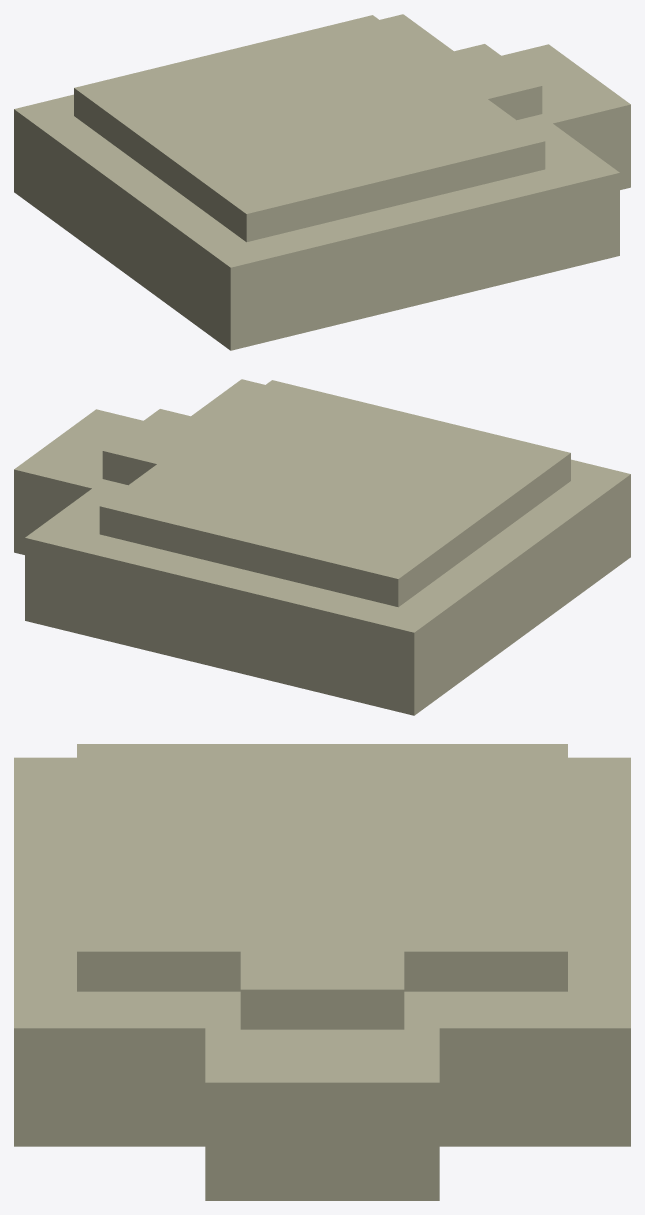
Rendered from Seashell.fbx.
The picture shows the model from 3 angles, top to bottom: view 1: azimuth 30°, elevation 25°; view 2: azimuth 150°, elevation 25°; view 3: azimuth 270°, elevation 25°; orthographic projection. The views are drawn at different scales.
Parts seen in each view (by area): view 1: Seashell1; view 2: Seashell1; view 3: Seashell1.
Part boxes in pixels (x1,y1,x2,y2): Seashell1: (14,14,630,350); Seashell1: (14,379,630,715); Seashell1: (14,744,630,1200).
Size of the model in its own units: 1.15 by 0.2613 by 0.9225.
